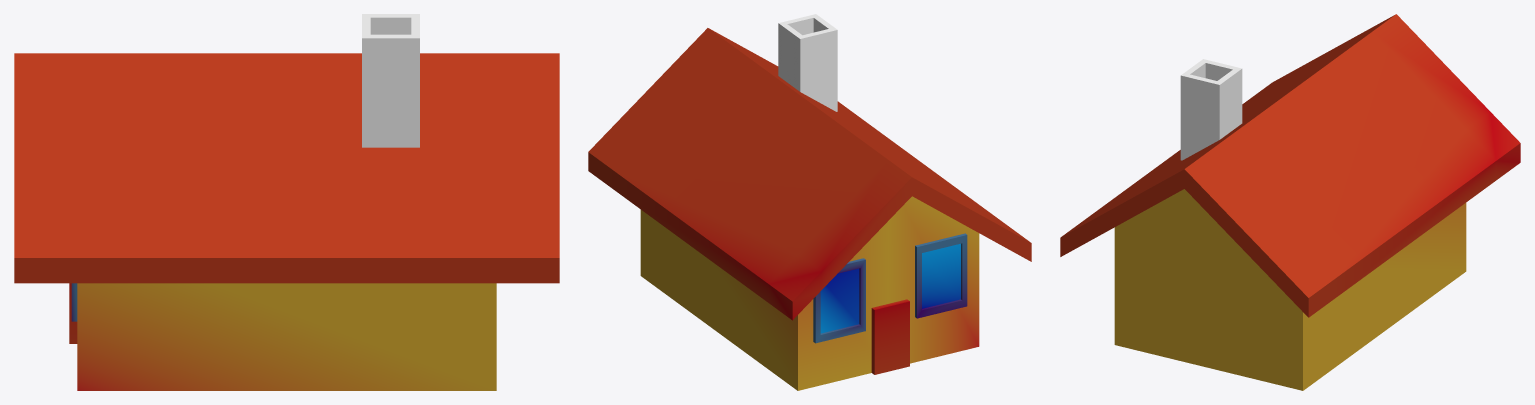
Rendered from scaled_build.fbx.
3 renders of one model, left to right at view 1: azimuth 30°, elevation 25°; view 2: azimuth 150°, elevation 25°; view 3: azimuth 270°, elevation 25°, orthographic. The views are drawn at different scales.
Parts seen in each view (by area): view 1: build; view 2: build; view 3: build.
Boxes of the visible parts, bbox=[...] form: build: bbox=[14, 14, 559, 390]; build: bbox=[588, 14, 1031, 390]; build: bbox=[1060, 14, 1520, 390].
Size of the model in its own units: 11.8 by 6.54 by 10.64.
